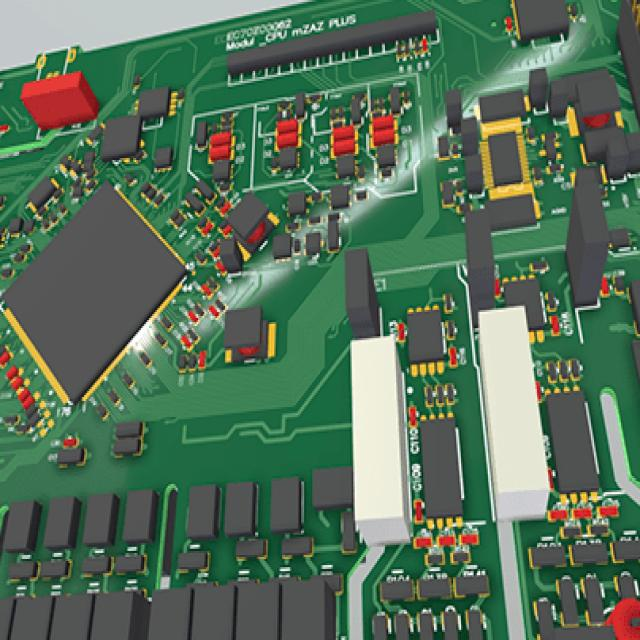pcb: (0, 0, 638, 638), (0, 178, 189, 405), (0, 573, 339, 638), (475, 304, 550, 520), (348, 332, 412, 545), (564, 176, 610, 310), (19, 69, 100, 132), (462, 207, 496, 324), (225, 190, 276, 260), (344, 245, 380, 338), (222, 304, 276, 364), (614, 0, 638, 130), (508, 0, 568, 43), (502, 274, 547, 330), (406, 302, 445, 362), (120, 486, 158, 543), (81, 490, 119, 547), (43, 494, 81, 551), (2, 498, 41, 553), (269, 474, 304, 535), (184, 482, 220, 541), (485, 192, 537, 231), (98, 113, 141, 160), (224, 480, 258, 537), (310, 464, 352, 510), (477, 87, 526, 122), (136, 83, 170, 128), (111, 419, 147, 458), (629, 336, 638, 476), (628, 276, 638, 338)
